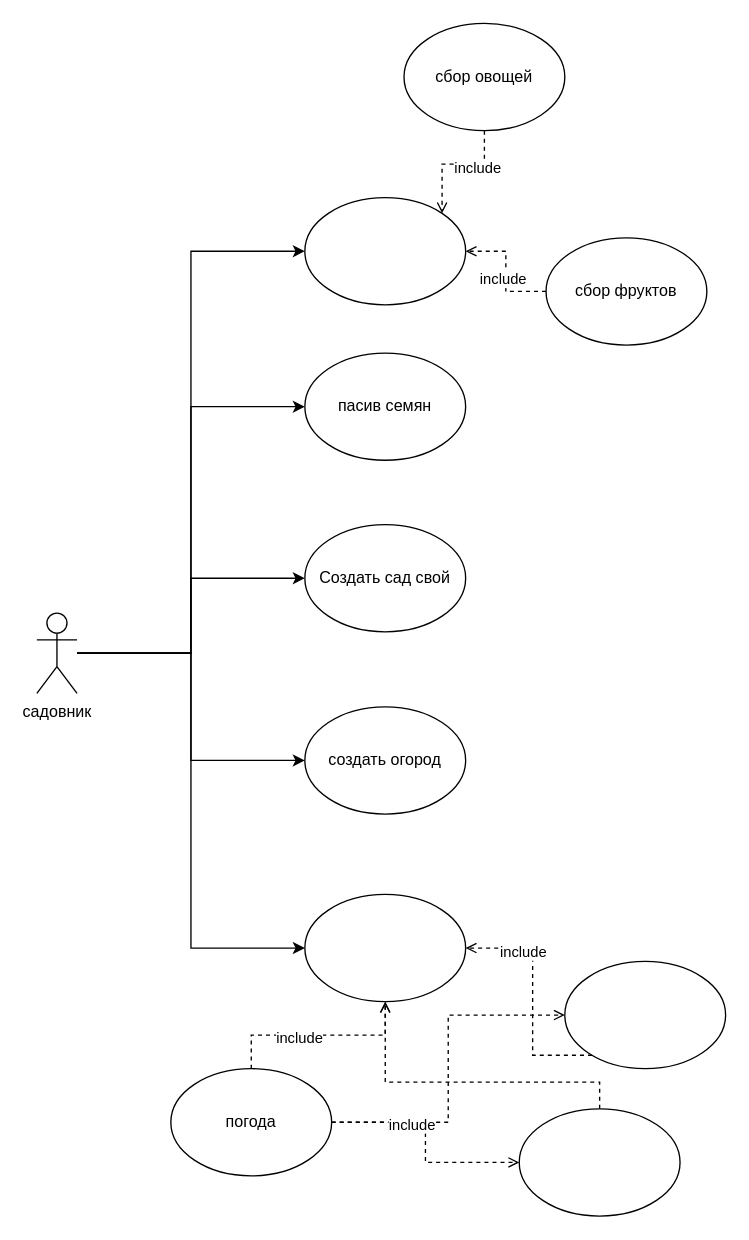
This 749x1240 diagram has some shape labels left out. Each missing label, with the box of its shape:
полив грядки: (563, 960, 726, 1069)
полив деревьв: (518, 1108, 680, 1216)
полив растения: (304, 893, 466, 1002)
сбор урожая: (304, 196, 466, 305)
